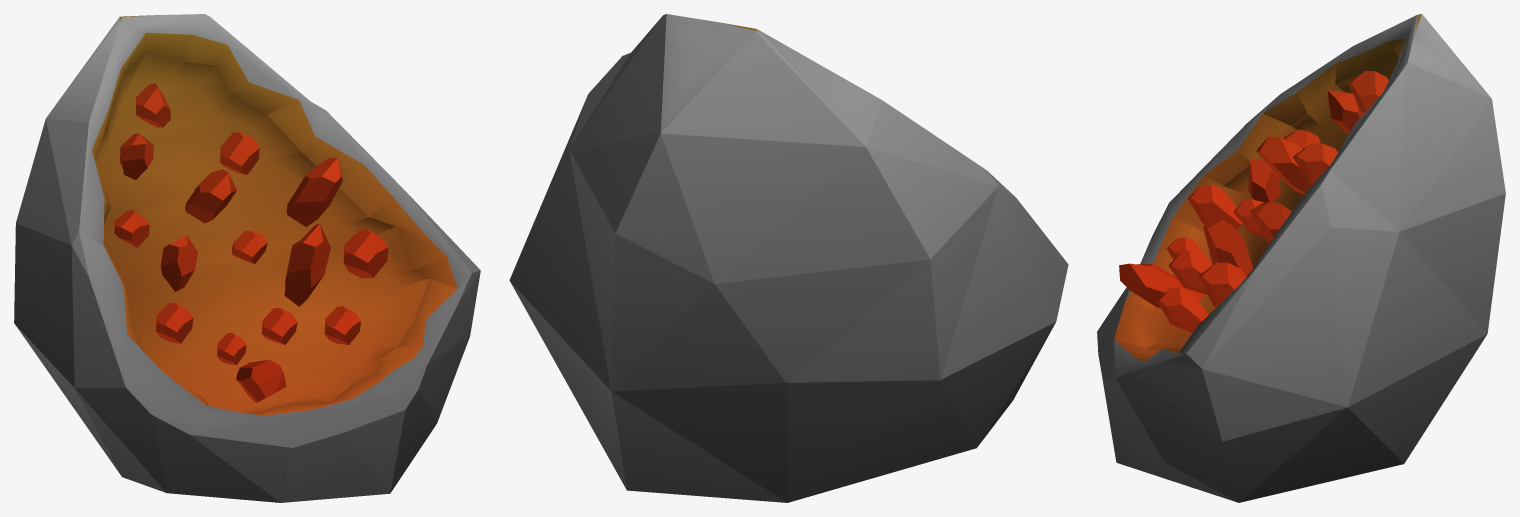
Rendered from Sibur.glb.
The picture shows the model from 3 angles, left to right: view 1: azimuth 30°, elevation 25°; view 2: azimuth 150°, elevation 25°; view 3: azimuth 270°, elevation 25°; orthographic projection. The views are drawn at different scales.
Visible parts, largest first — view 1: crystal_basalt_green.020_SimplePolygonPalette_0; view 2: crystal_basalt_green.020_SimplePolygonPalette_0; view 3: crystal_basalt_green.020_SimplePolygonPalette_0.
Part boxes in pixels (x1=…): crystal_basalt_green.020_SimplePolygonPalette_0: x1=14, y1=14, x2=480, y2=502; crystal_basalt_green.020_SimplePolygonPalette_0: x1=509, y1=14, x2=1068, y2=502; crystal_basalt_green.020_SimplePolygonPalette_0: x1=1097, y1=14, x2=1505, y2=502.
Size of the model in its own units: 1.69 by 1.68 by 1.53.
Materials: 1 (1 with a texture image).
